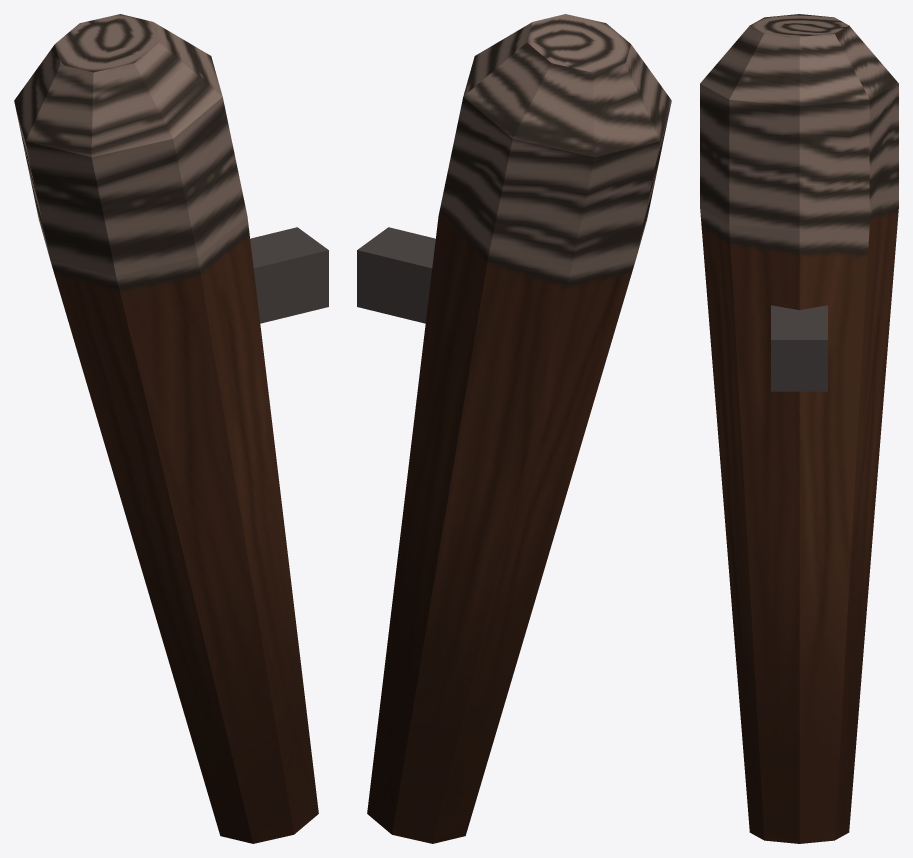
File: Torch.fbx
3 renders of one model, left to right at view 1: azimuth 30°, elevation 25°; view 2: azimuth 150°, elevation 25°; view 3: azimuth 270°, elevation 25°, orthographic. The views are drawn at different scales.
Visible parts, largest first — view 1: Torch; view 2: Torch; view 3: Torch.
Boxes of the visible parts, x1,y1,x2,y2 form: Torch: (14, 14, 328, 843); Torch: (357, 14, 671, 843); Torch: (700, 14, 898, 843).
Size of the model in its own units: 0.2096 by 0.5786 by 0.1382.
